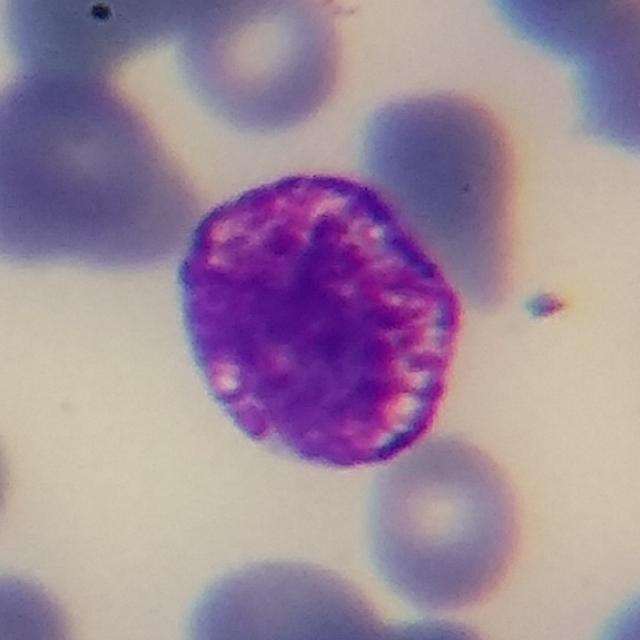baso: (171, 157, 473, 475)
